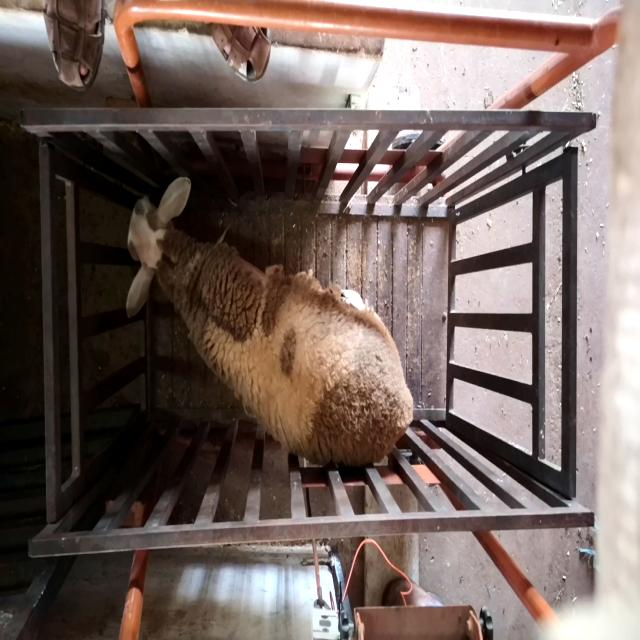sheep: (126, 176, 415, 468)
